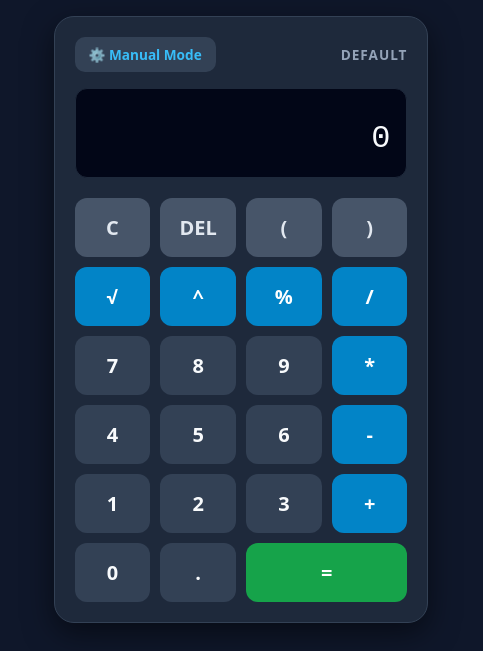
it: App Component - Interface & Interactions › must calculate correctly via the form in Manual Mode
This screenshot has width=483, height=651.
Click the button "⚙️ Manual Mode". click: (145, 54)
box: [74,36,216,72]
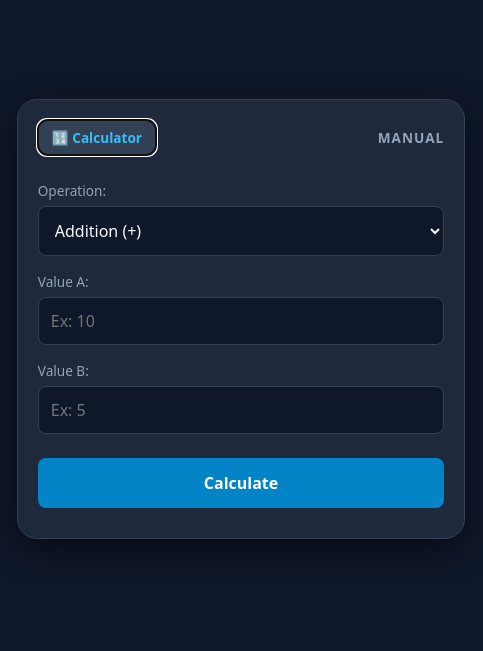
Type "20" into the number field with placeholder "Ex: 10". click: (241, 321)
box: [38,297,444,345]
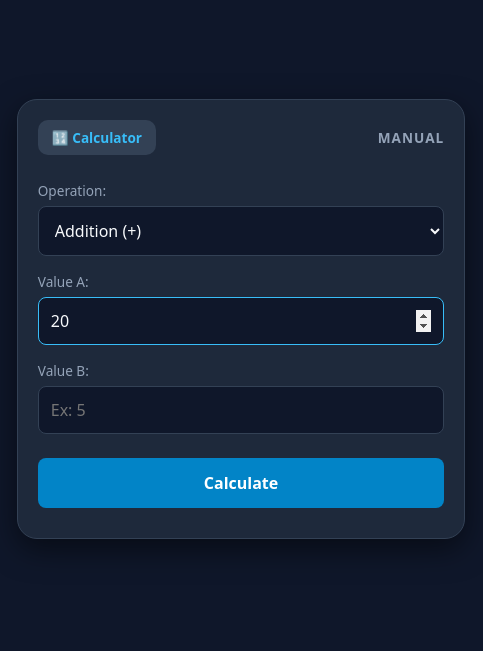
Type "5" into the number field with placeholder "Ex: 5". click: (241, 410)
box: [38,386,444,434]
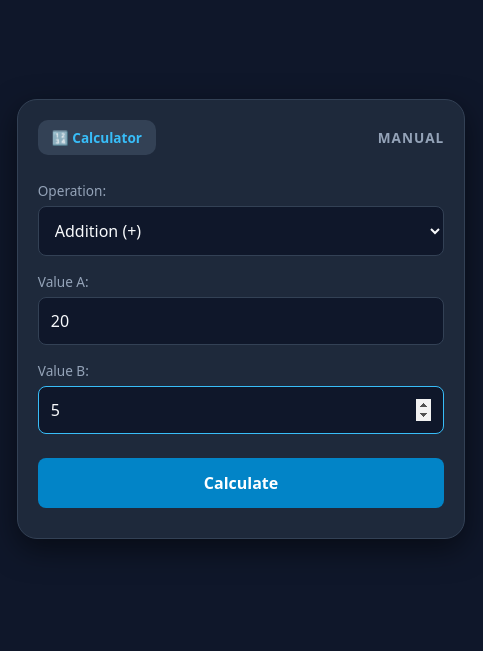
Click the button "Calculate". click: (241, 483)
box: [38,458,444,508]
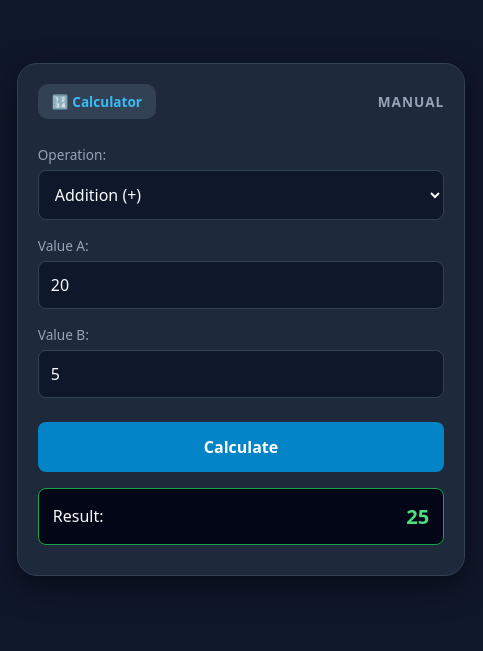
Check: the text "25" is shown, box [406,502,429,530]
